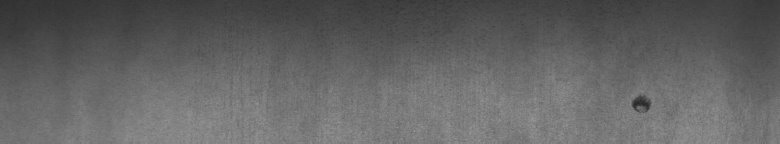fi: (625, 88, 655, 116)
